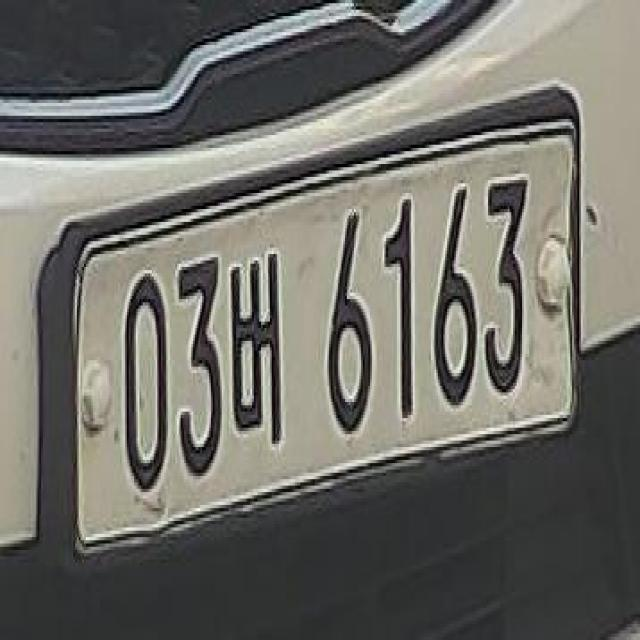illegal_plate: (73, 104, 584, 571)
